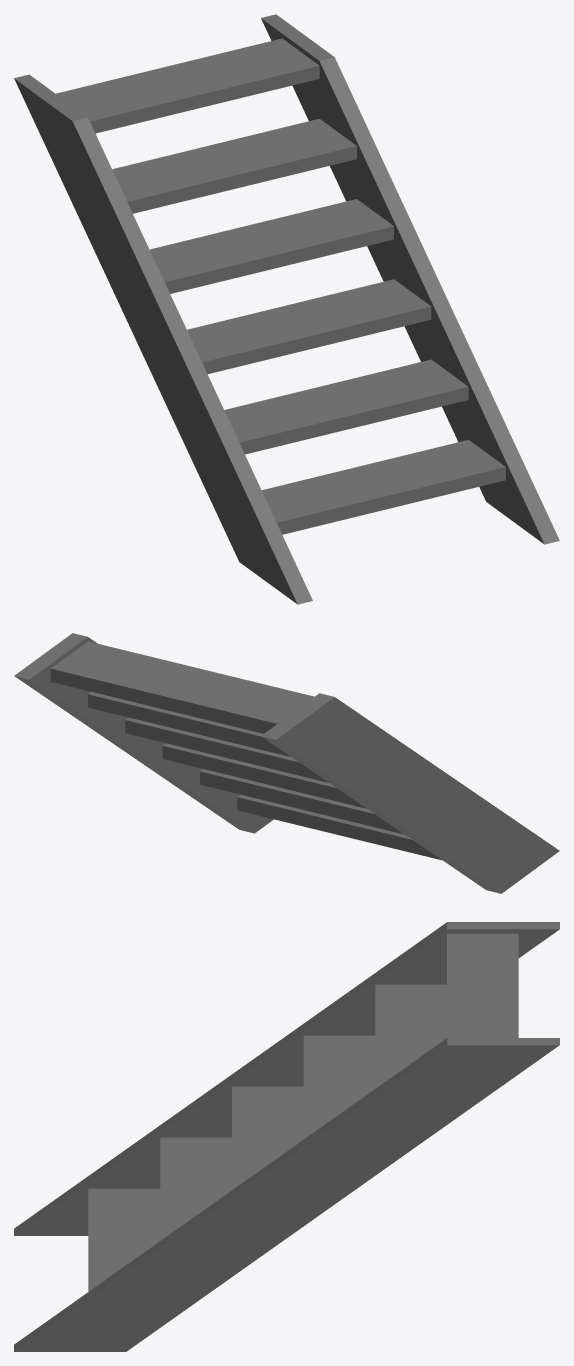
Rendered from Stairs_049.glb.
3 views of the same model, one above another, from view 1: azimuth 30°, elevation 25°; view 2: azimuth 150°, elevation 25°; view 3: azimuth 270°, elevation 25° (orthographic). The views are drawn at different scales.
Visible parts, largest first — view 1: Stairs_049; view 2: Stairs_049; view 3: Stairs_049.
Boxes of the visible parts, x1,y1,x2,y2 form: Stairs_049: (14,14,559,604); Stairs_049: (14,633,559,893); Stairs_049: (14,922,559,1351).
Bounding box in the file's own units: 1.72 × 2 × 3.23.
1 material, 1 textured.
